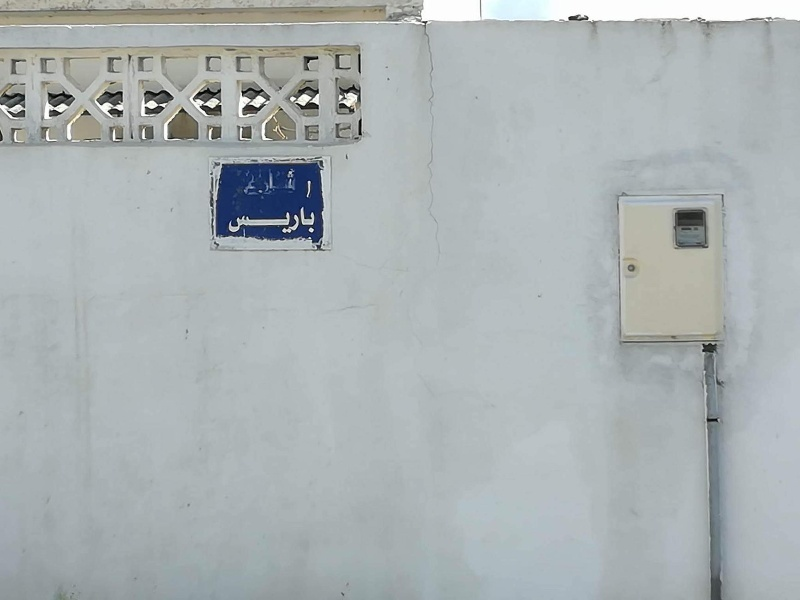text: (257, 167, 272, 197), (273, 167, 288, 197), (241, 204, 256, 234), (257, 204, 272, 234), (273, 204, 288, 234), (289, 204, 304, 234), (228, 204, 240, 234), (305, 204, 316, 234), (247, 167, 256, 197), (289, 167, 297, 197)
